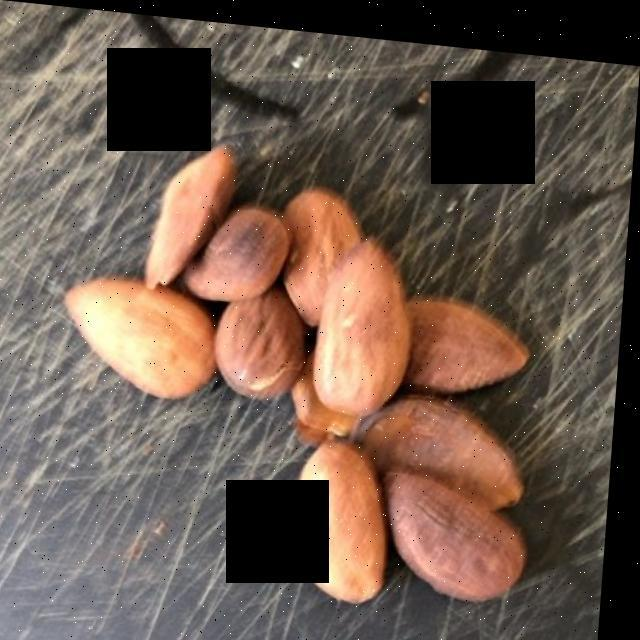almonds: (79, 155, 531, 588)
